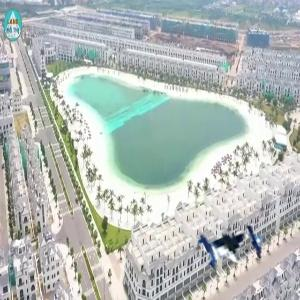drone: (162, 169, 285, 292)
